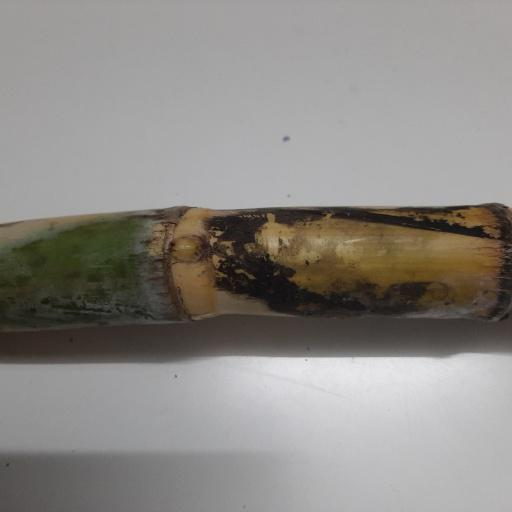Bud: (164, 232, 208, 263)
